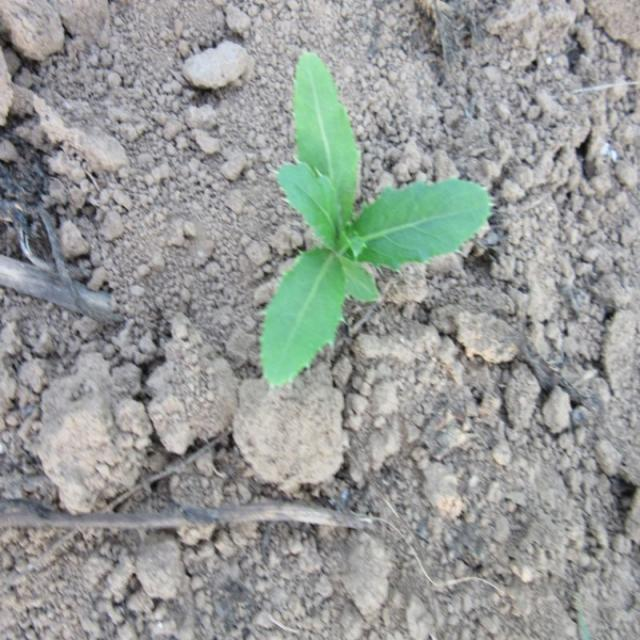cs: (260, 49, 497, 390)
